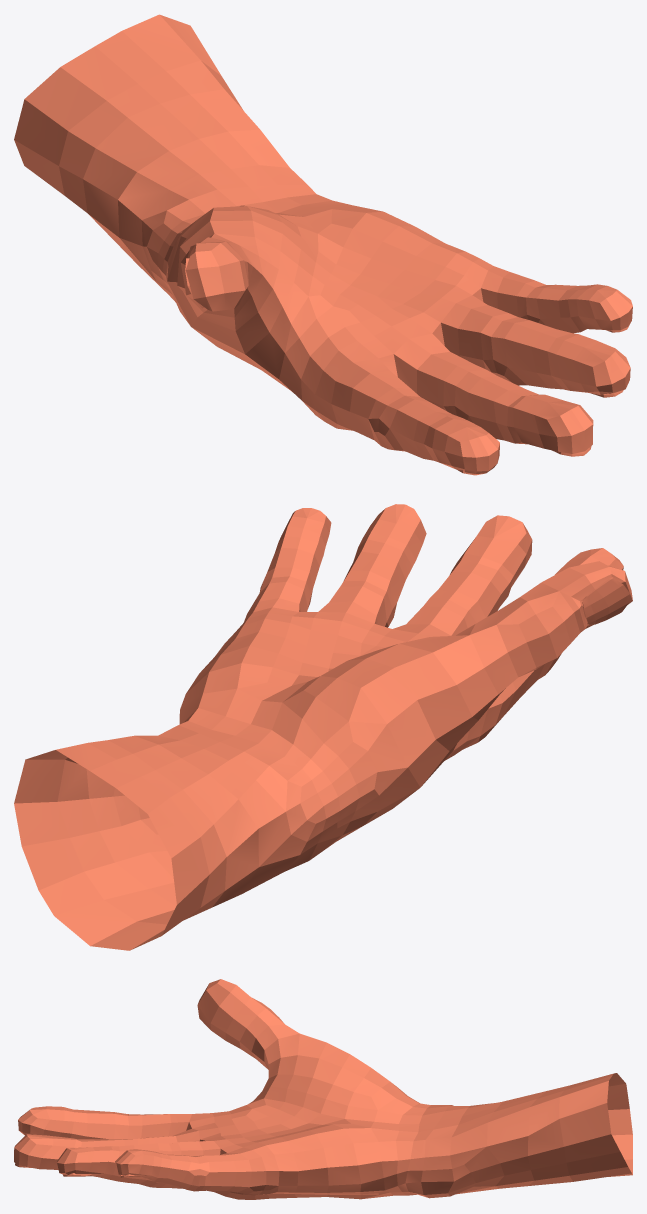
The model's file is 4_7_HandPolygonalRighFront.obj.
The picture shows the model from 3 angles, top to bottom: view 1: azimuth 30°, elevation 25°; view 2: azimuth 150°, elevation 25°; view 3: azimuth 270°, elevation 25°; orthographic projection. The views are drawn at different scales.
Parts seen in each view (by area): view 1: hand1_polySurface891.007; view 2: hand1_polySurface891.007; view 3: hand1_polySurface891.007.
Boxes of the visible parts, x1,y1,x2,y2 form: hand1_polySurface891.007: (14,14,632,475); hand1_polySurface891.007: (14,504,632,950); hand1_polySurface891.007: (14,979,632,1199).
Size of the model in its own units: 0.0875 by 0.0487 by 0.1779.
